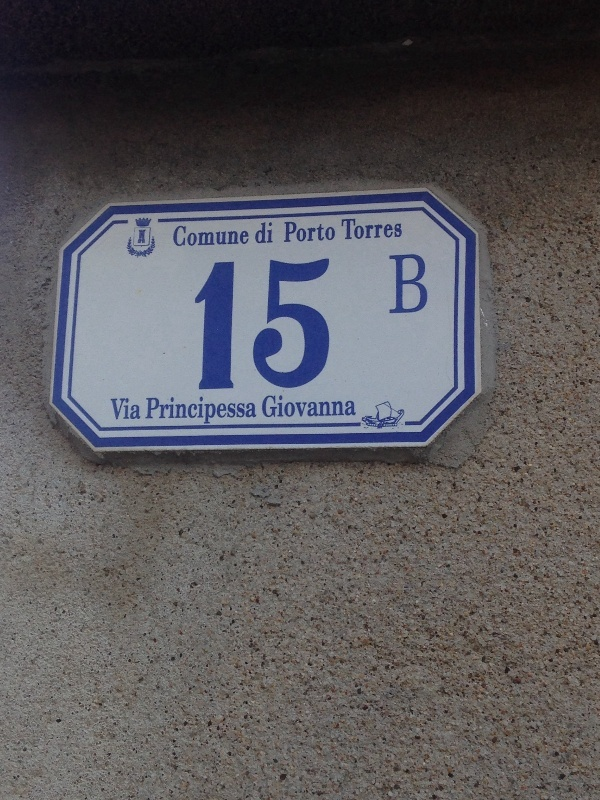text: (193, 257, 208, 391), (209, 257, 224, 391), (225, 257, 240, 391), (241, 257, 256, 391), (257, 257, 272, 391), (273, 257, 288, 391), (289, 257, 304, 391), (305, 257, 320, 391), (321, 257, 331, 391), (401, 254, 416, 314), (417, 254, 428, 314), (390, 254, 400, 314), (161, 396, 176, 424), (177, 396, 192, 424), (193, 396, 208, 424), (209, 396, 224, 424), (225, 396, 240, 424), (241, 396, 256, 424), (147, 396, 160, 424), (273, 394, 288, 417), (289, 394, 304, 417), (305, 394, 320, 417), (321, 394, 336, 417), (337, 394, 352, 417), (353, 218, 368, 240), (369, 218, 384, 240), (385, 218, 400, 240), (113, 398, 128, 420), (177, 226, 192, 247), (193, 226, 208, 247), (209, 226, 224, 247), (225, 226, 240, 247), (289, 221, 304, 242), (305, 221, 320, 242), (321, 221, 336, 242), (129, 398, 142, 420), (261, 222, 272, 244), (341, 218, 352, 240), (241, 226, 251, 247), (263, 394, 272, 417), (284, 221, 288, 242), (138, 230, 144, 244), (353, 394, 356, 417), (173, 226, 176, 247), (257, 396, 258, 424), (401, 218, 402, 240), (111, 398, 112, 420), (145, 230, 146, 244)
